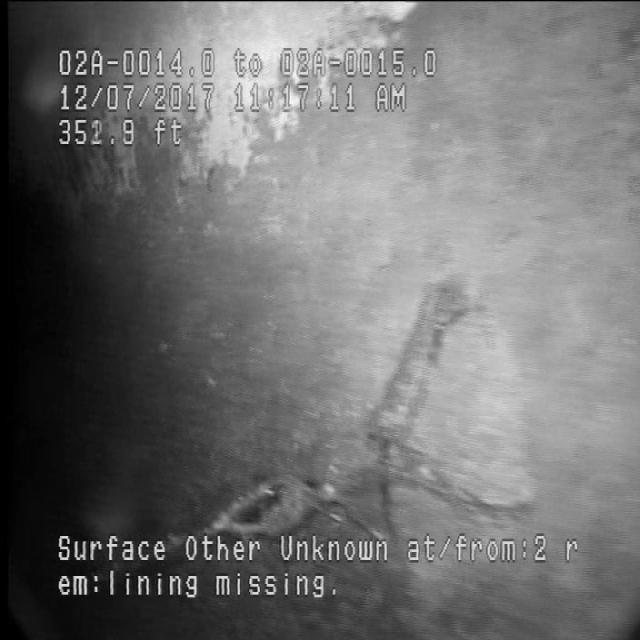Fracture: (194, 260, 514, 534)
